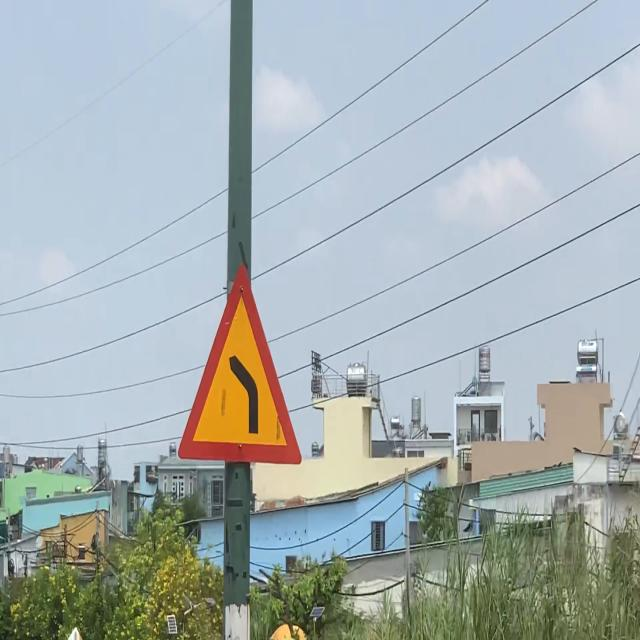Nguy hiem: (176, 259, 306, 467)
